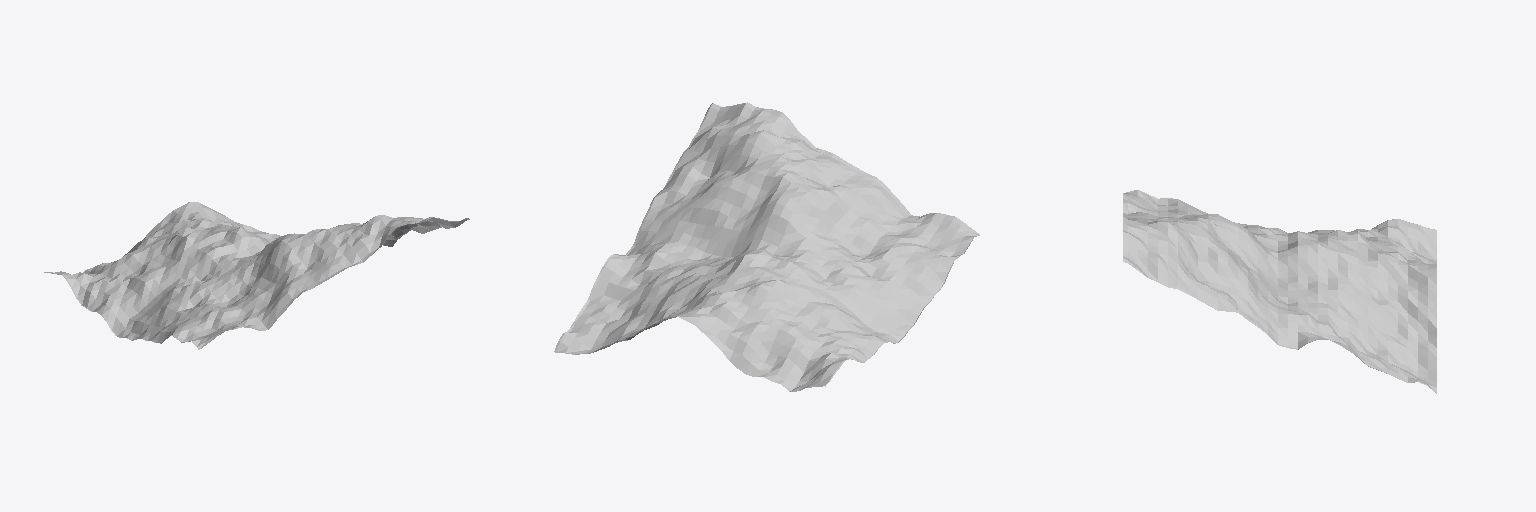
The model's file is heightmap.063.obj.
3 views of the same model, side by side, from view 1: azimuth 30°, elevation 25°; view 2: azimuth 150°, elevation 25°; view 3: azimuth 270°, elevation 25° (orthographic).
Parts seen in each view (by area): view 1: heightmap.063_Plane.063; view 2: heightmap.063_Plane.063; view 3: heightmap.063_Plane.063.
Part boxes in pixels (x1,y1,x2,y2): heightmap.063_Plane.063: (44,202,469,349); heightmap.063_Plane.063: (554,102,979,391); heightmap.063_Plane.063: (1123,190,1436,393).
Bounding box in the file's own units: 32 × 16.25 × 32.